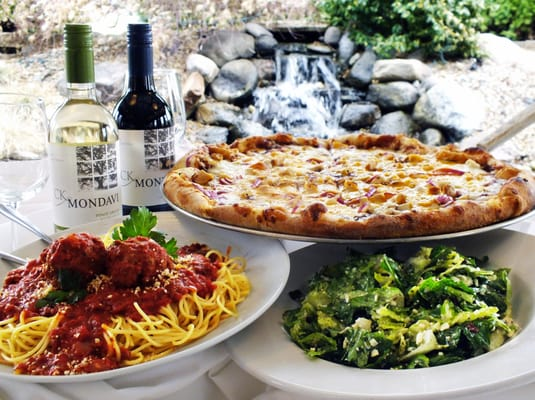curry: (283, 244, 517, 371)
sushi: (0, 206, 288, 397)
